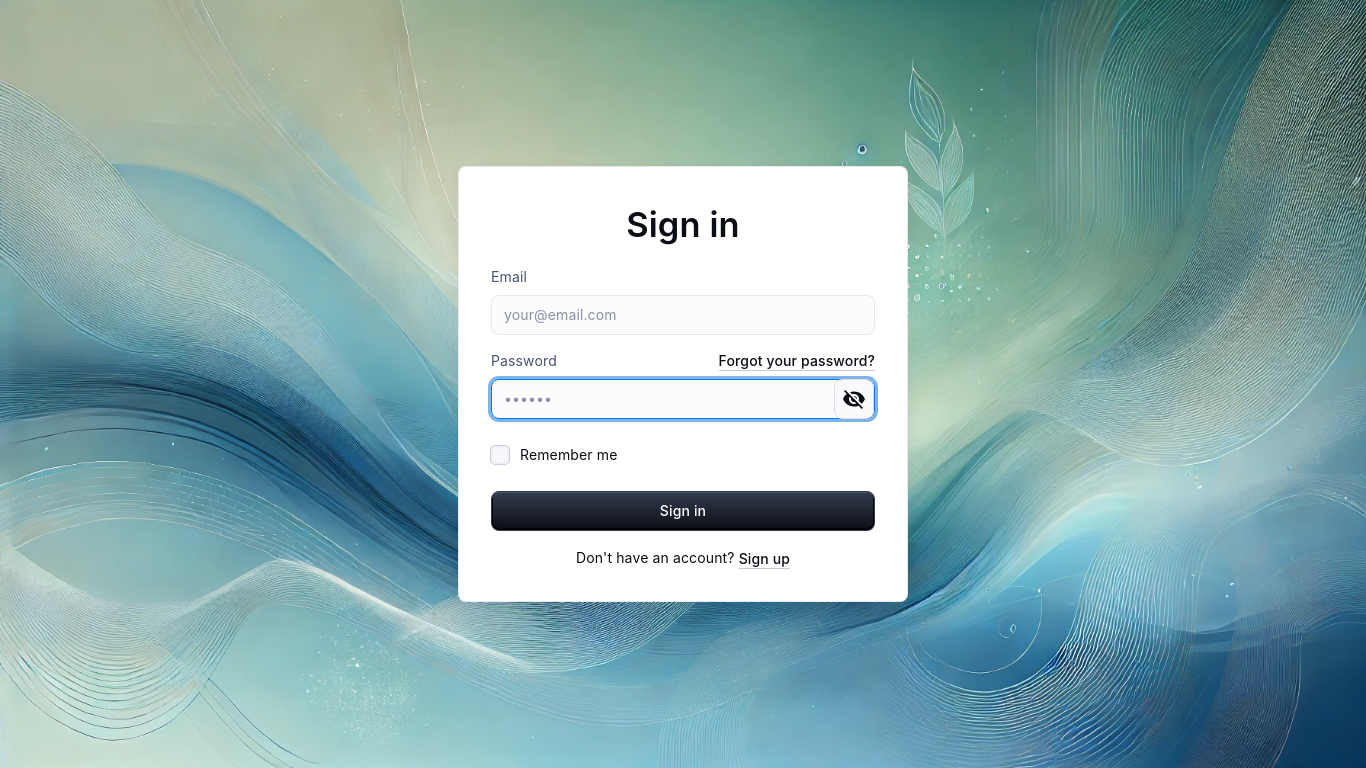
Test: SignIn Component › displays error message when email or password is missing
Click the button titled "signIn" at [683, 511], box [491,491,875,531]
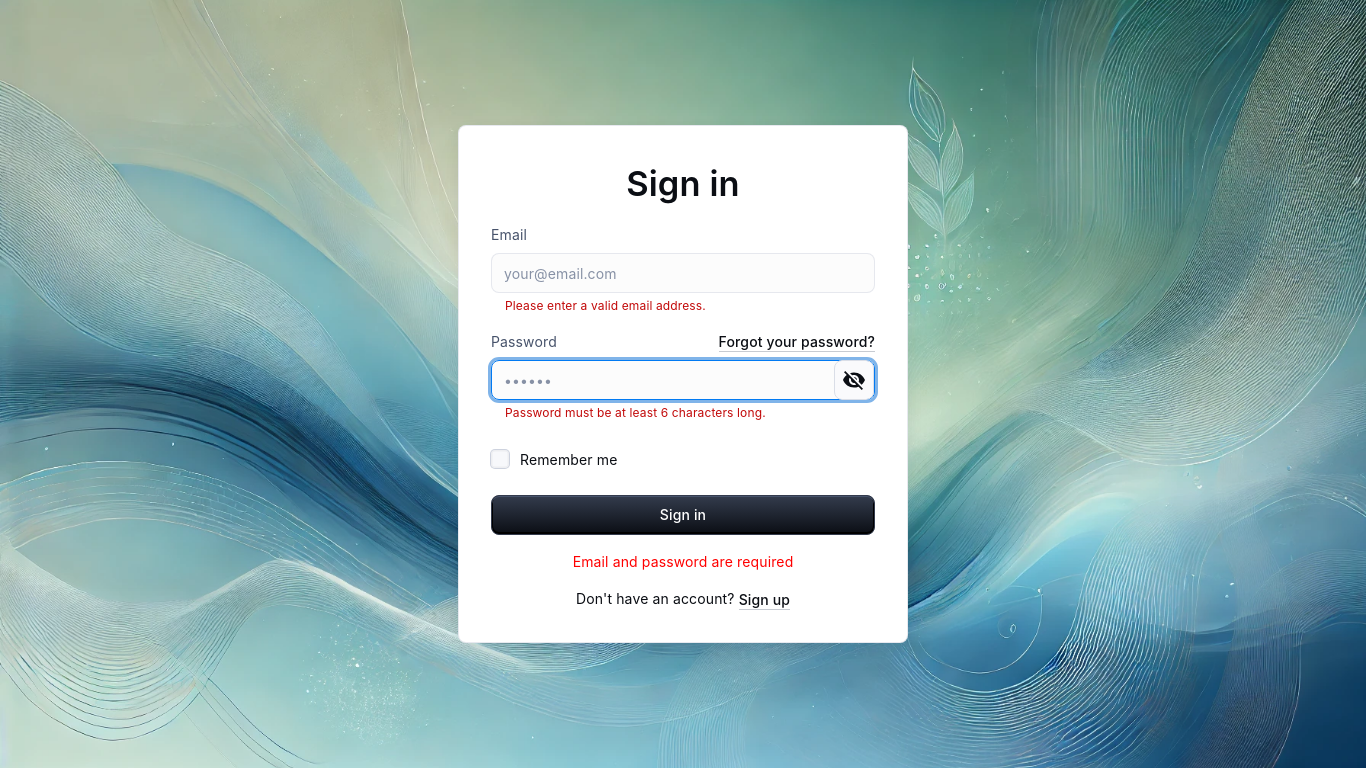
Check: the text "Email and password are required" is shown, box [573,553,793,570]
